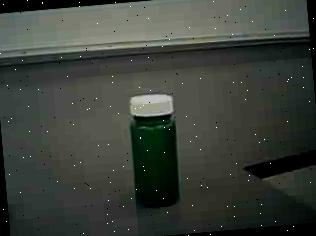Bottle C: (114, 84, 196, 222)
